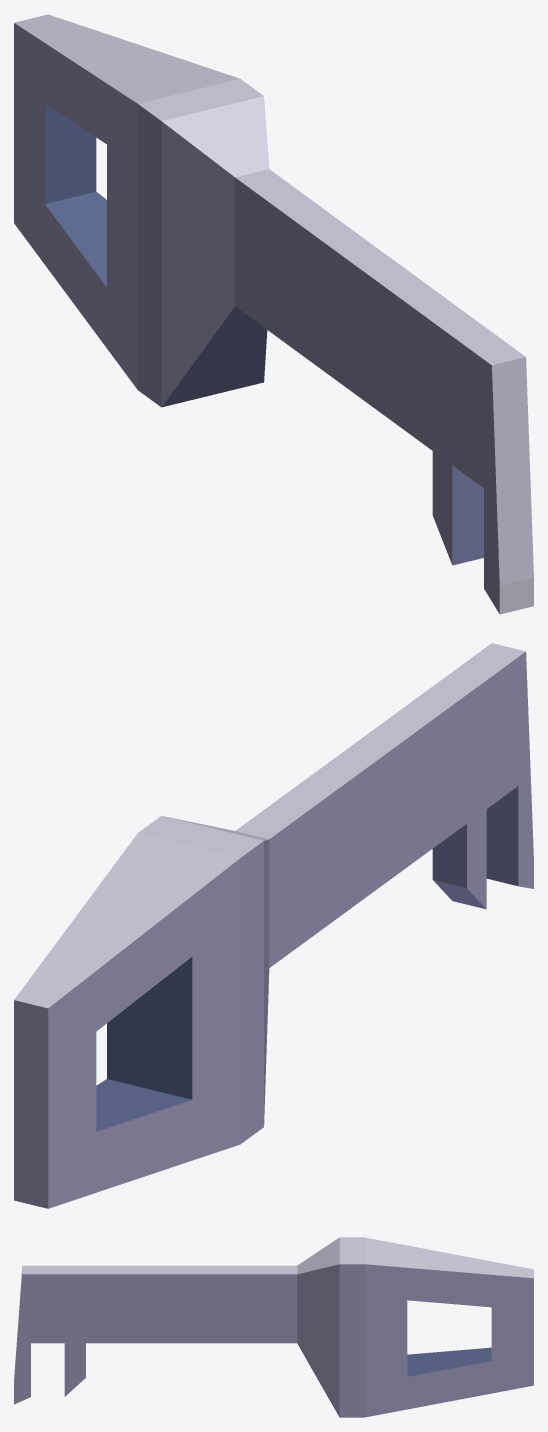
The model's file is Key.fbx.
3 renders of one model, top to bottom at view 1: azimuth 30°, elevation 25°; view 2: azimuth 150°, elevation 25°; view 3: azimuth 270°, elevation 25°, orthographic. The views are drawn at different scales.
Parts seen in each view (by area): view 1: cuboid; view 2: cuboid; view 3: cuboid.
Boxes of the visible parts, x1,y1,x2,y2 form: cuboid: (14, 14, 533, 614); cuboid: (14, 643, 533, 1208); cuboid: (14, 1237, 533, 1417).
Size of the model in its own units: 4.69 by 12.5 by 38.44.
Materials: 1 (1 with a texture image).
